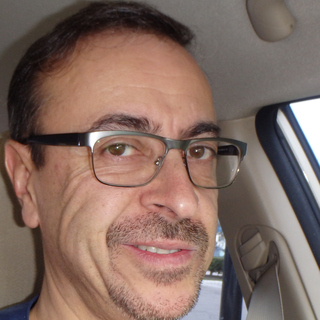eye: (97, 134, 147, 165), (182, 141, 217, 164)
